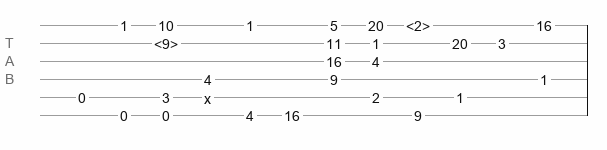0: (78, 90, 86, 100), (120, 108, 128, 118), (162, 108, 170, 118)
1: (120, 18, 128, 28), (246, 18, 254, 28), (372, 36, 380, 46), (456, 90, 464, 100), (540, 72, 548, 82)
10: (158, 18, 174, 28)
11: (326, 36, 342, 46)
16: (284, 108, 300, 118), (326, 54, 342, 64), (536, 18, 552, 28)
2: (372, 90, 380, 100)
20: (368, 18, 384, 28), (452, 36, 468, 46)
3: (162, 90, 170, 100), (498, 36, 506, 46)
4: (204, 72, 212, 82), (246, 108, 254, 118), (372, 54, 380, 64)
5: (330, 18, 338, 28)
9: (330, 72, 338, 82), (414, 108, 422, 118)
harmonic: (154, 36, 178, 46), (406, 18, 430, 28)
x: (204, 91, 211, 99)
